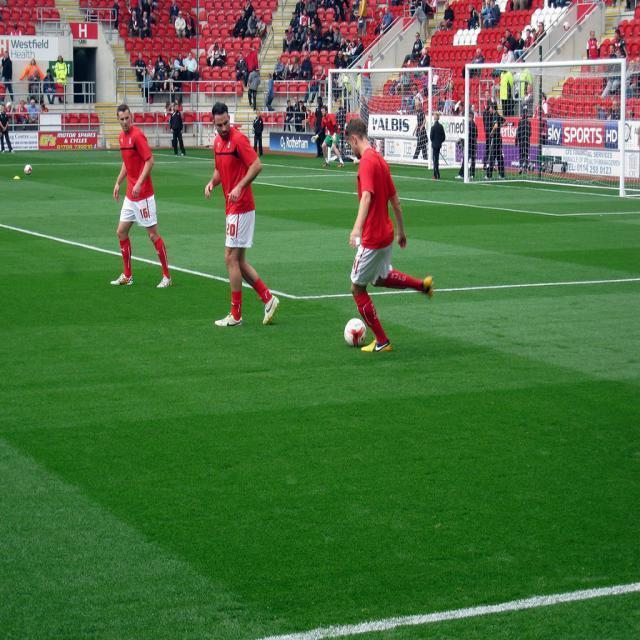Football: (344, 316, 367, 347)
